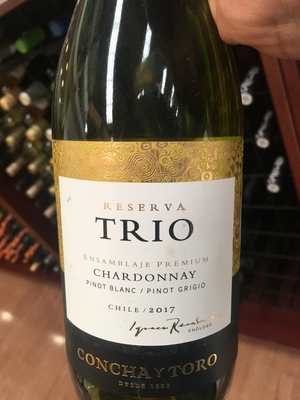trio chardonnay: (45, 19, 254, 400)
